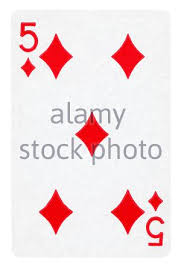five of diamonds: (11, 11, 172, 255)
